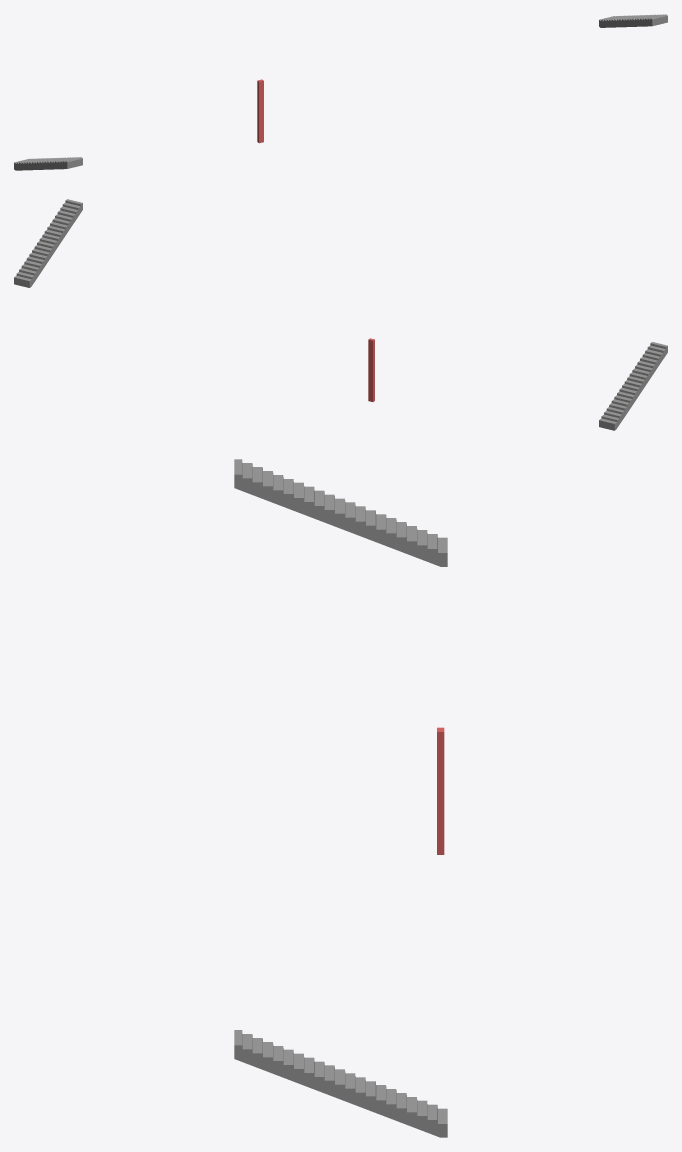
File: Other.fbx
The picture shows the model from 3 angles, top to bottom: view 1: azimuth 30°, elevation 25°; view 2: azimuth 150°, elevation 25°; view 3: azimuth 270°, elevation 25°; orthographic projection. The views are drawn at different scales.
Visible parts, largest first — view 1: 階段.038, 階段.028, エレベーター.009; view 2: 階段.038, 階段.028, エレベーター.009; view 3: 階段.028, 階段.038, エレベーター.009.
Boxes of the visible parts, box(x1,y1,x2,y2) form: 階段.038: box(14, 157, 82, 170); 階段.028: box(599, 14, 667, 27); エレベーター.009: box(257, 79, 263, 143); 階段.038: box(599, 342, 667, 430); 階段.028: box(14, 199, 82, 287); エレベーター.009: box(368, 338, 374, 401); 階段.028: box(234, 1030, 447, 1137); 階段.038: box(234, 459, 447, 566); エレベーター.009: box(437, 727, 444, 854).
Size of the model in its own units: 38324 by 4715 by 5900.
